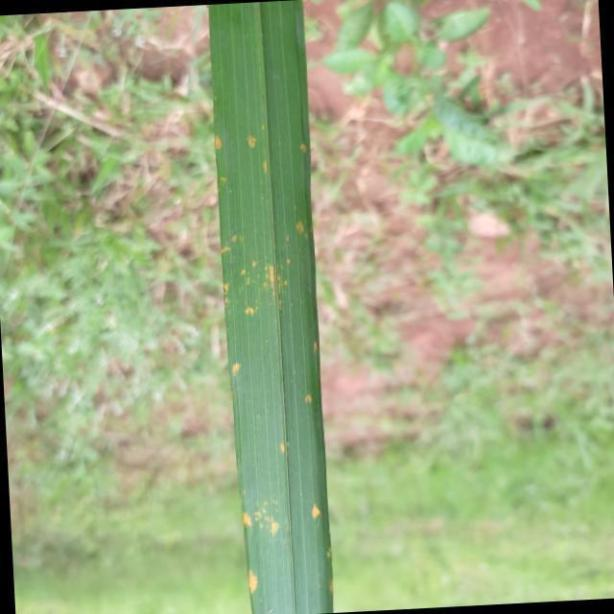Kalium: (207, 1, 334, 614)
